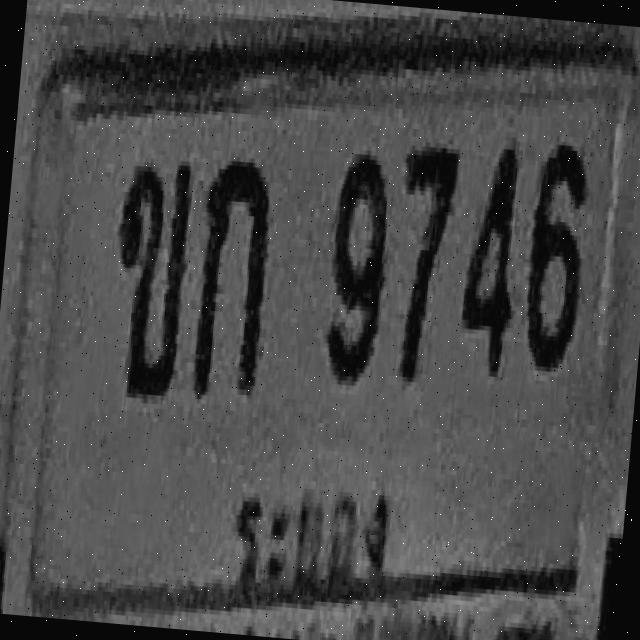10GorGai: (189, 154, 275, 399)
11KhorKhai: (105, 156, 194, 401)
4: (456, 140, 524, 373)
6: (520, 140, 590, 370)
7: (386, 140, 459, 384)
9: (321, 148, 393, 382)
Rayong: (222, 466, 406, 610)
